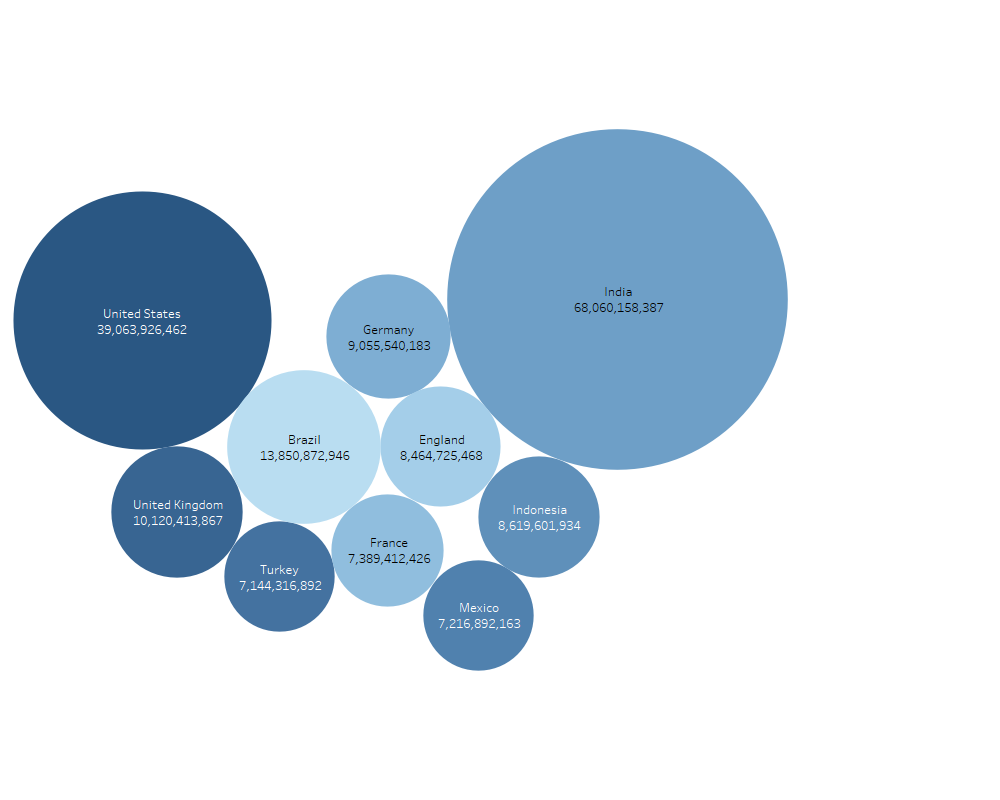

The dashboard page shown, as its layout file describes it:
{"tool":"tableau","page":{"name":"Dashboard 1","canvas":[1000,800],"ordinal":0},"visuals":[{"type":"worksheet","title":"Sheet 7","mark":"Automatic","rows":["country"],"cols":["people_fully_vaccinated"],"box":[8,8,984,784]}]}

Visuals, with their boxes in screenshot pixels (x1, y1, x2, y2), scaled from the page's 1000x800 canvas onto the 1000x800 screenshot:
"Sheet 7" worksheet: [left=8, top=8, right=992, bottom=792]
